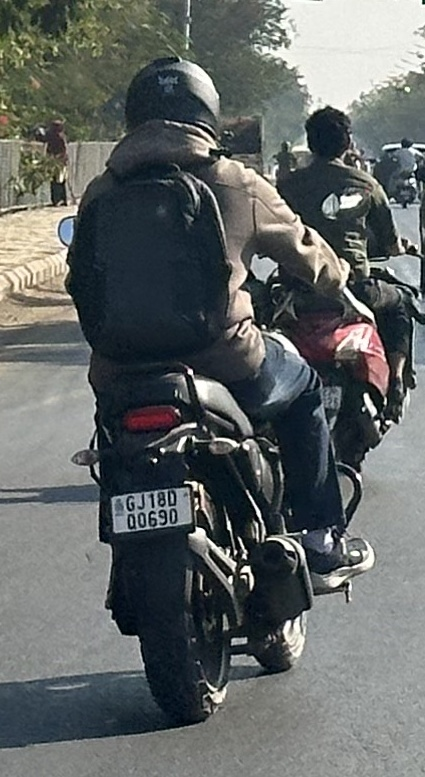BikeWithRider: (48, 48, 382, 729), (257, 95, 421, 488), (385, 134, 424, 206)
Helmet: (112, 48, 230, 160)
NoHelmet: (297, 100, 360, 170)
